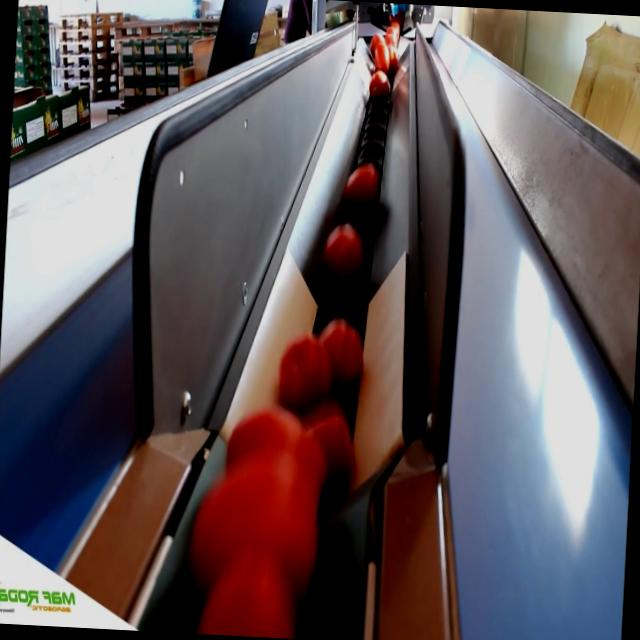Tomato: (186, 449, 320, 594), (204, 548, 290, 638), (223, 409, 315, 476), (304, 414, 358, 519), (279, 334, 330, 412), (320, 321, 366, 393), (324, 224, 363, 273), (342, 162, 378, 208), (367, 71, 392, 111), (373, 41, 392, 70)
